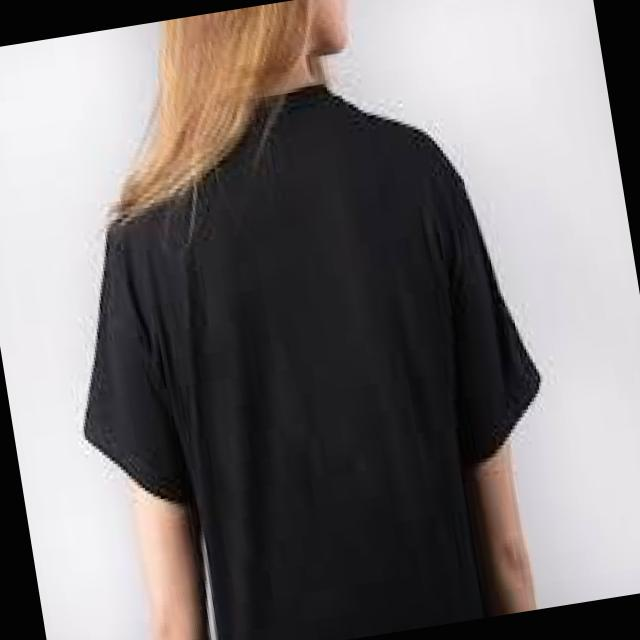Tshirt: (33, 50, 578, 640)
